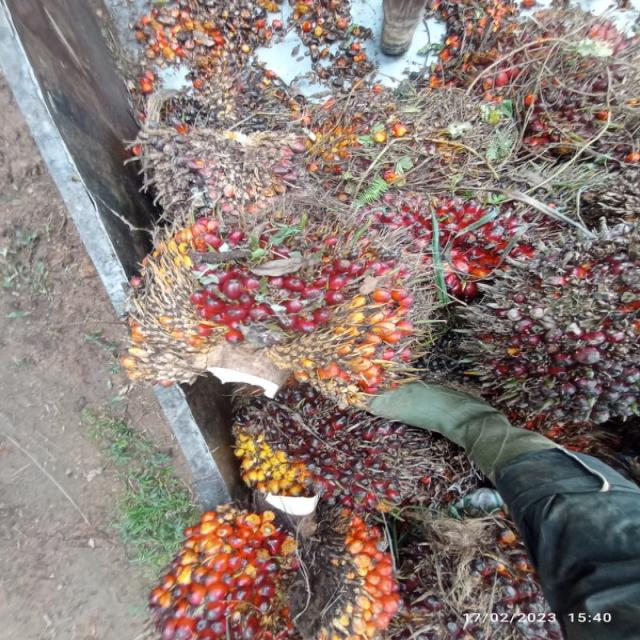fraksi 00: (432, 187, 640, 419)
fraksi 1: (192, 375, 421, 543)
fraksi 3: (62, 153, 464, 413), (130, 478, 448, 640)
